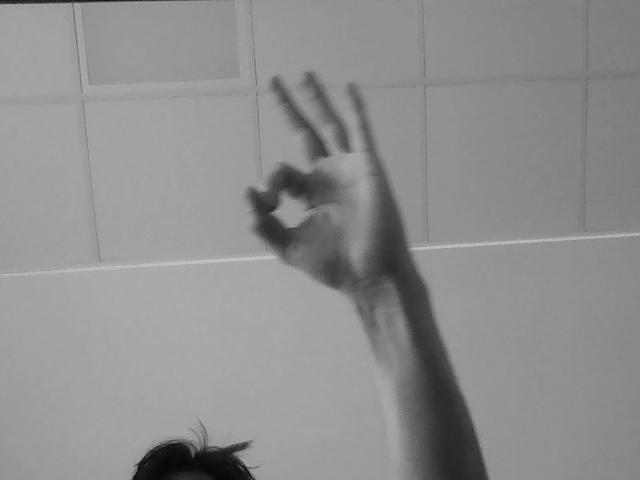OK: (242, 67, 428, 309)
